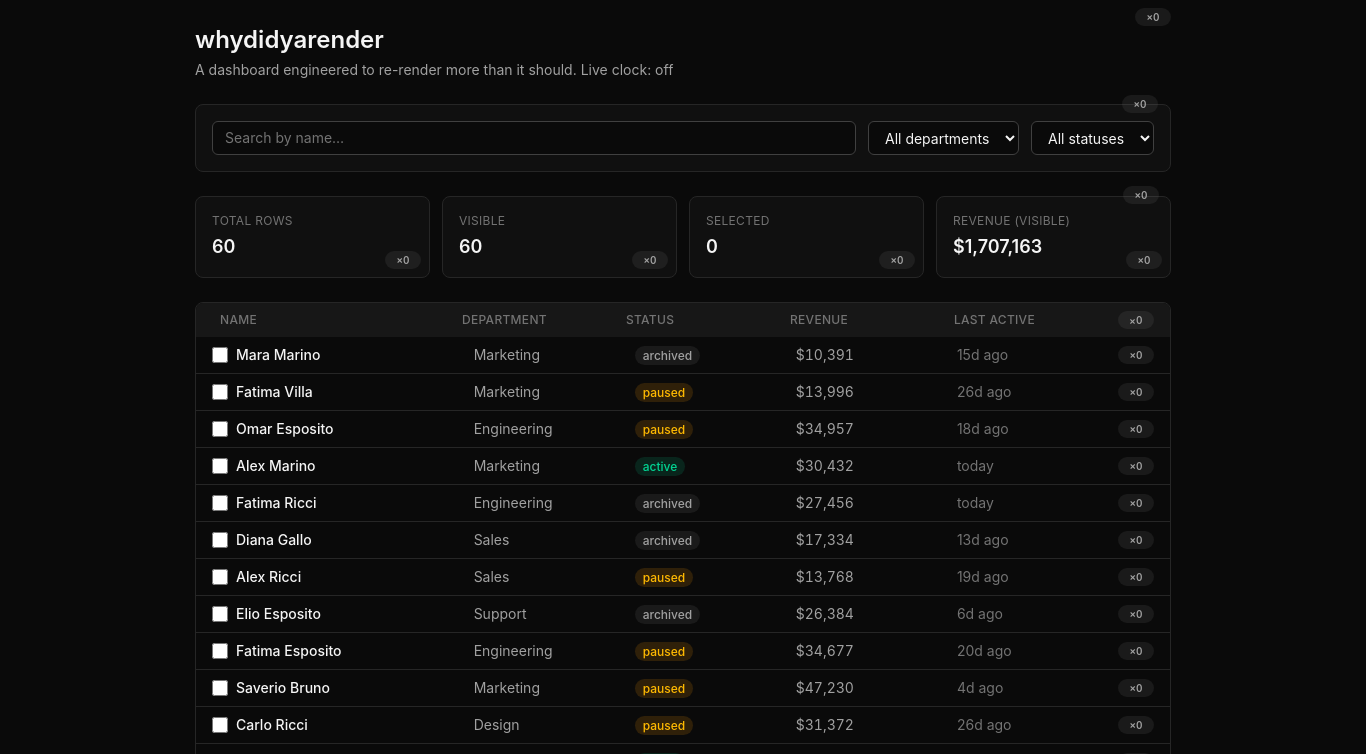
Dashboard › filters rows by name as you type, and the Visible stat matches what's rendered
This screenshot has width=1366, height=754.
Type "zzzzznotarealname" into the field with placeholder "Search by name…" at (534, 138), box [212,121,856,155]
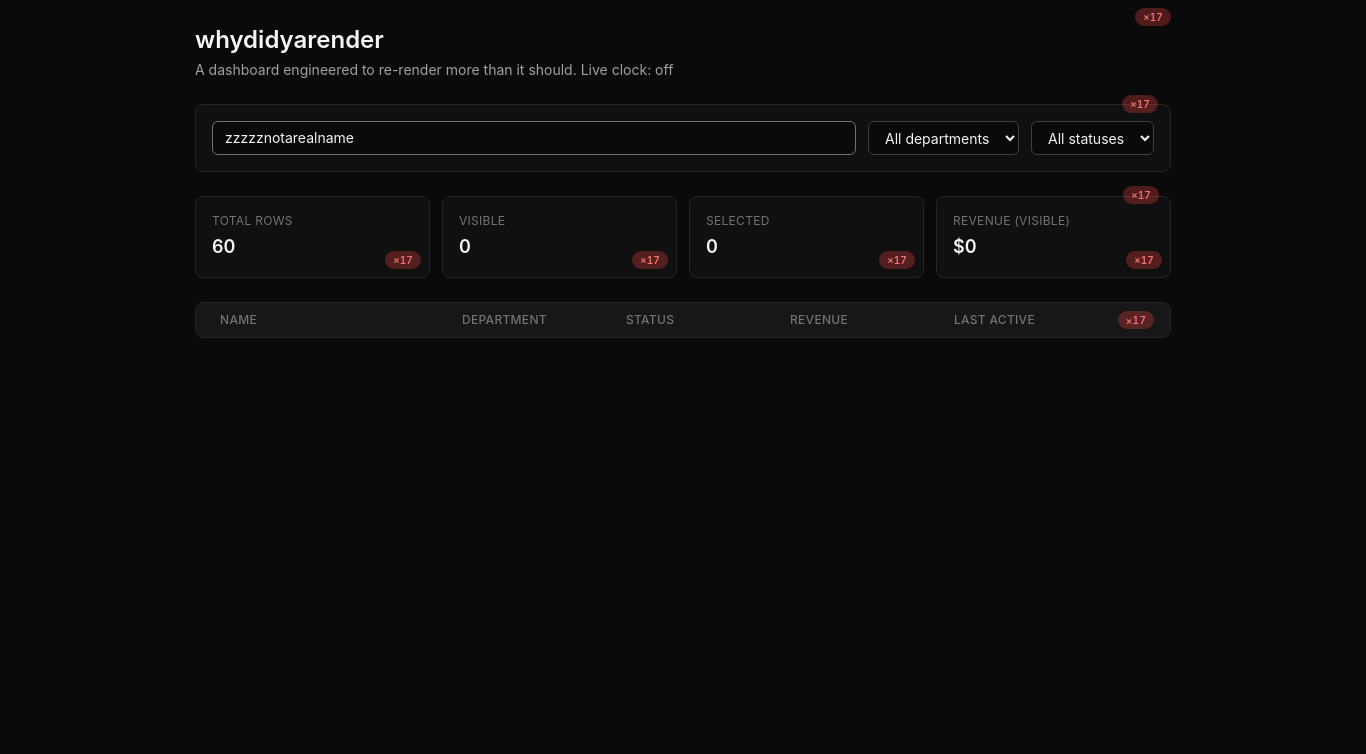
Check: no checkboxes are shown
